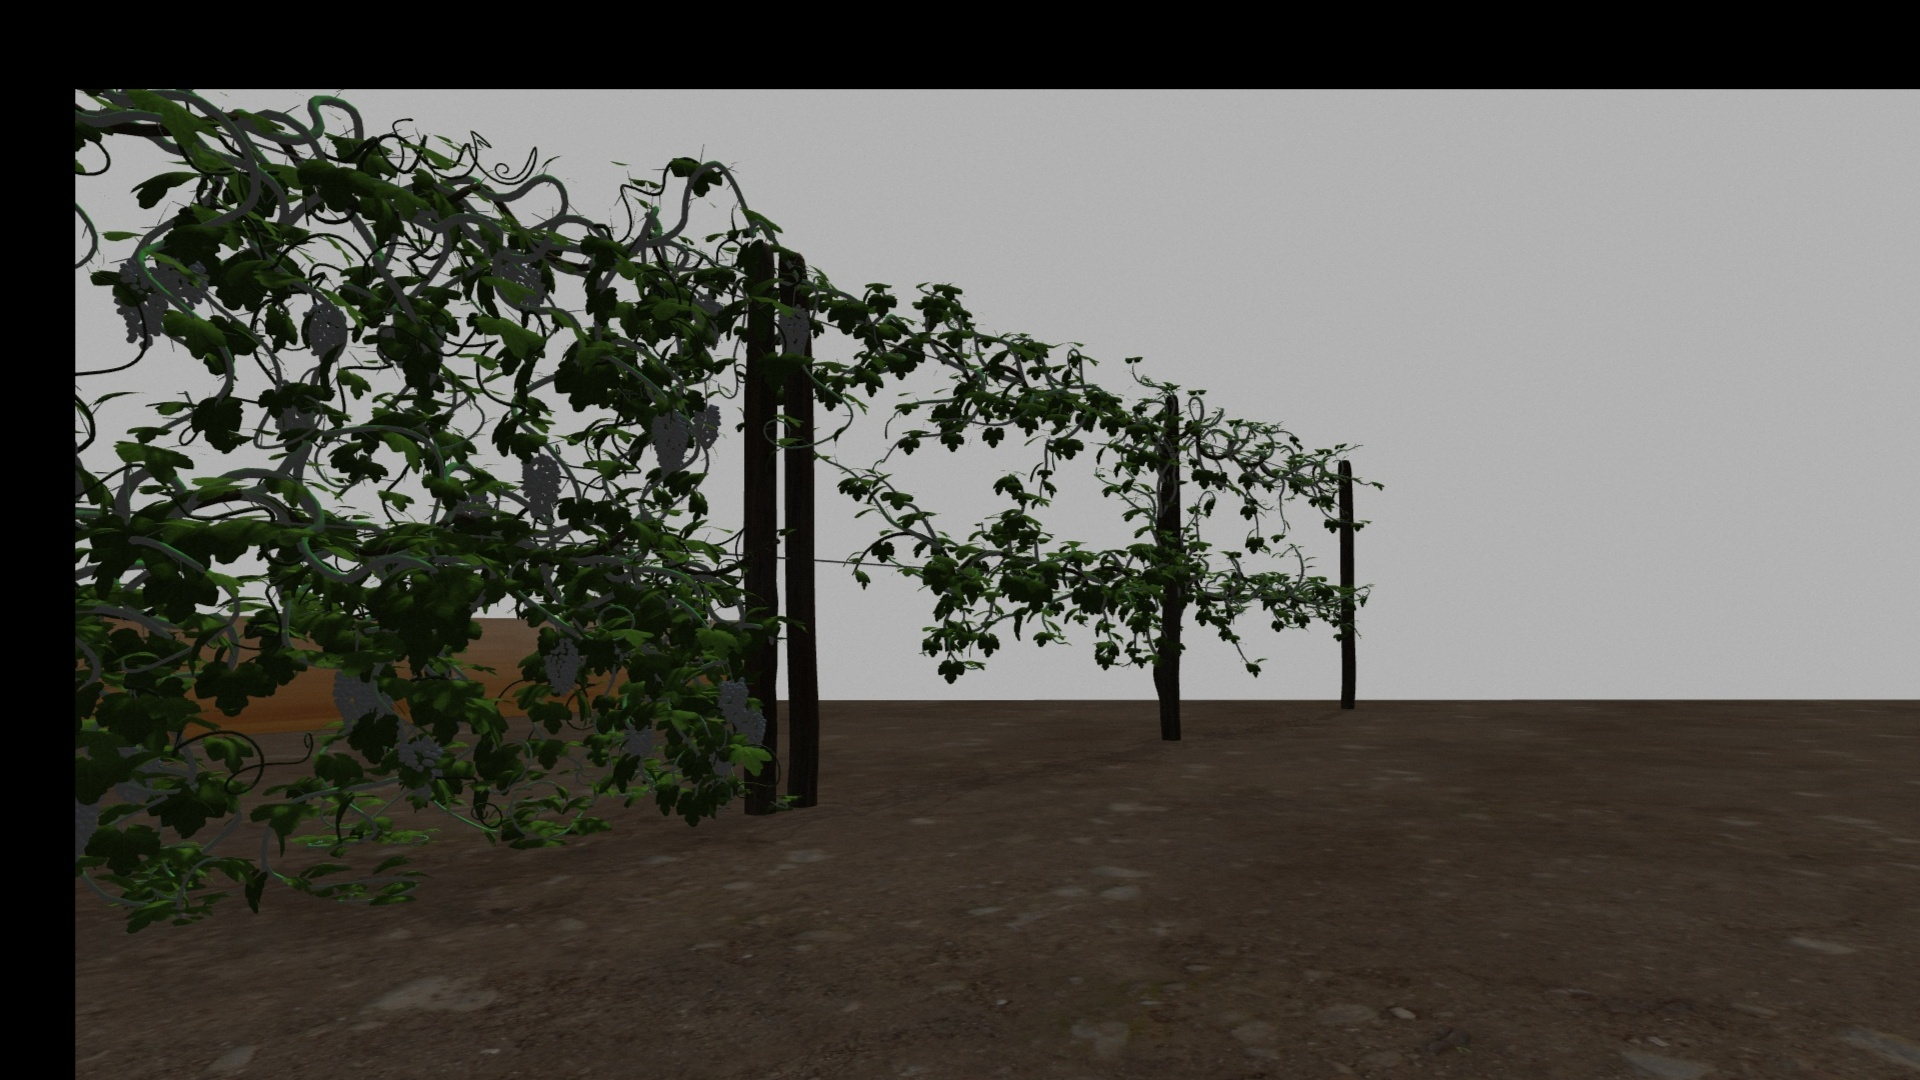grape: (113, 260, 165, 348), (330, 666, 377, 729), (521, 451, 560, 524), (650, 411, 690, 481), (306, 301, 345, 364), (543, 636, 580, 698), (166, 262, 208, 309), (396, 731, 440, 773), (778, 307, 810, 357), (715, 679, 749, 723), (691, 401, 721, 450), (735, 709, 766, 746), (624, 724, 653, 760)
